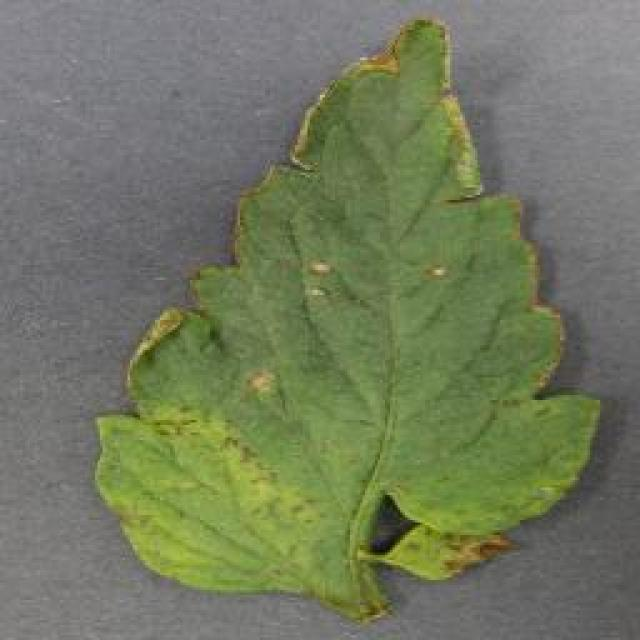Tomato bacterial spot leaf: (84, 11, 614, 632)
